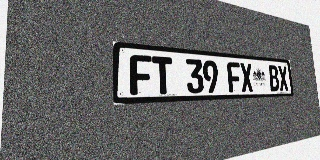3: (186, 59, 204, 93)
9: (202, 60, 219, 93)
B: (268, 65, 280, 91)
F: (130, 54, 153, 95), (227, 62, 242, 92)
T: (152, 56, 173, 94)
X: (240, 63, 254, 92), (278, 66, 289, 91)
